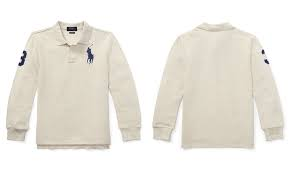S_polo shirt: (6, 22, 147, 161)
